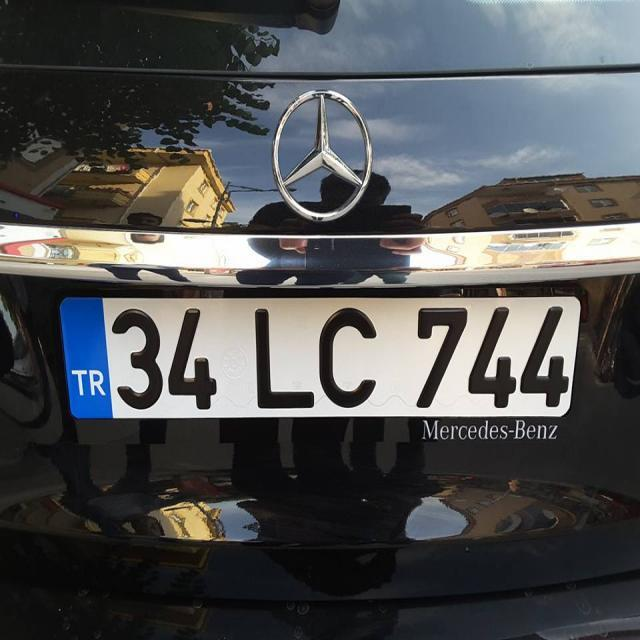plate: (46, 284, 592, 423)
